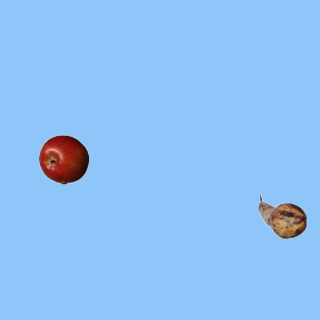Apple Braeburn: (38, 134, 88, 184)
Pear Abate: (257, 191, 307, 241)
